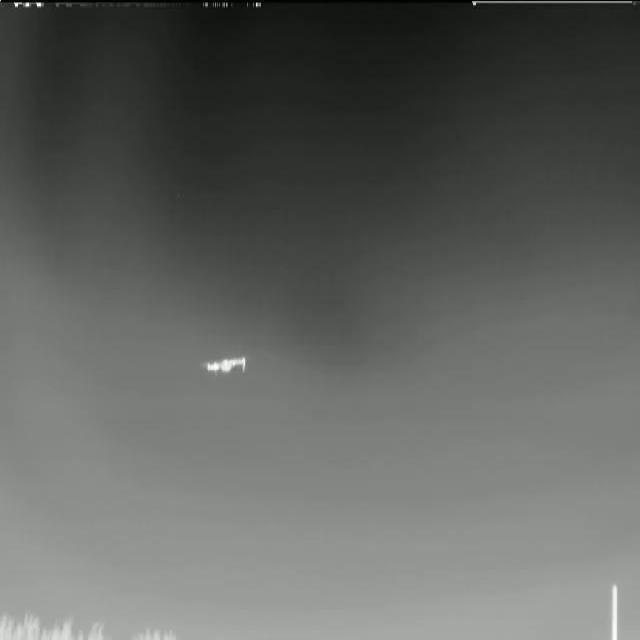DRONE: (194, 347, 254, 387)
